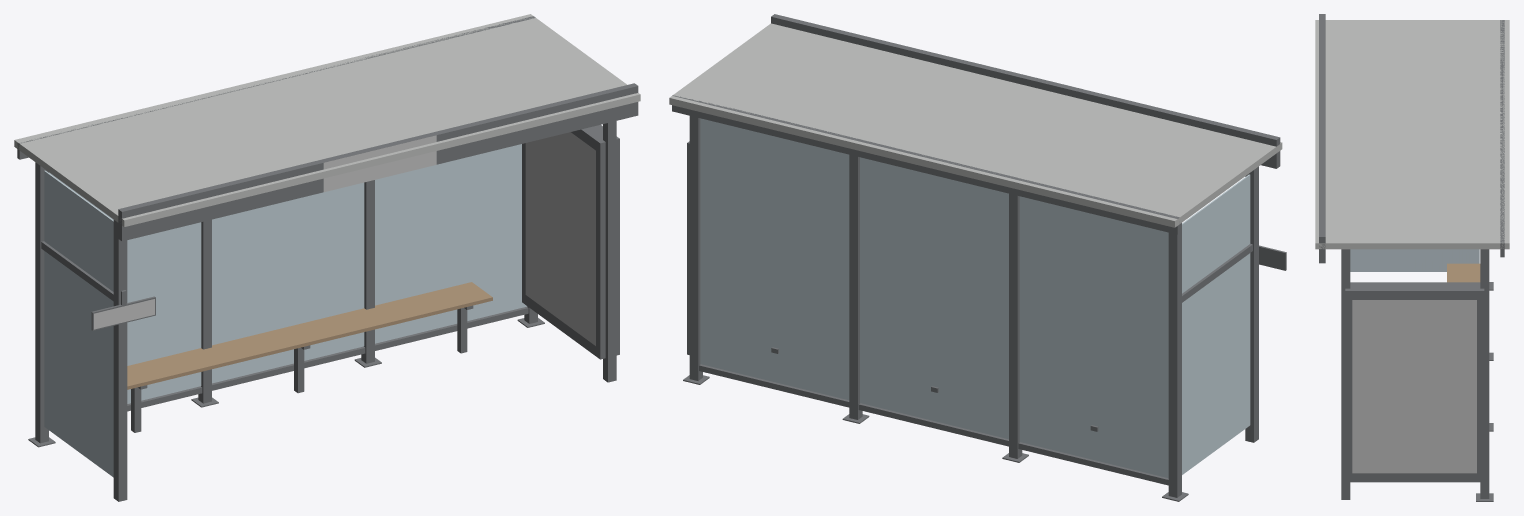
Rendered from bus_stop_shelter_lod1.glb.
3 views of the same model, side by side, from view 1: azimuth 30°, elevation 25°; view 2: azimuth 150°, elevation 25°; view 3: azimuth 270°, elevation 25° (orthographic). The views are drawn at different scales.
Visible parts, largest first — view 1: bus_stop_shelter_lod1; view 2: bus_stop_shelter_lod1; view 3: bus_stop_shelter_lod1.
Part boxes in pixels (box(x1,y1,x2,y2)): bus_stop_shelter_lod1: box(14, 14, 640, 501); bus_stop_shelter_lod1: box(669, 14, 1286, 501); bus_stop_shelter_lod1: box(1315, 14, 1509, 501).
Bounding box in the file's own units: 4.91 × 2.65 × 1.75.
